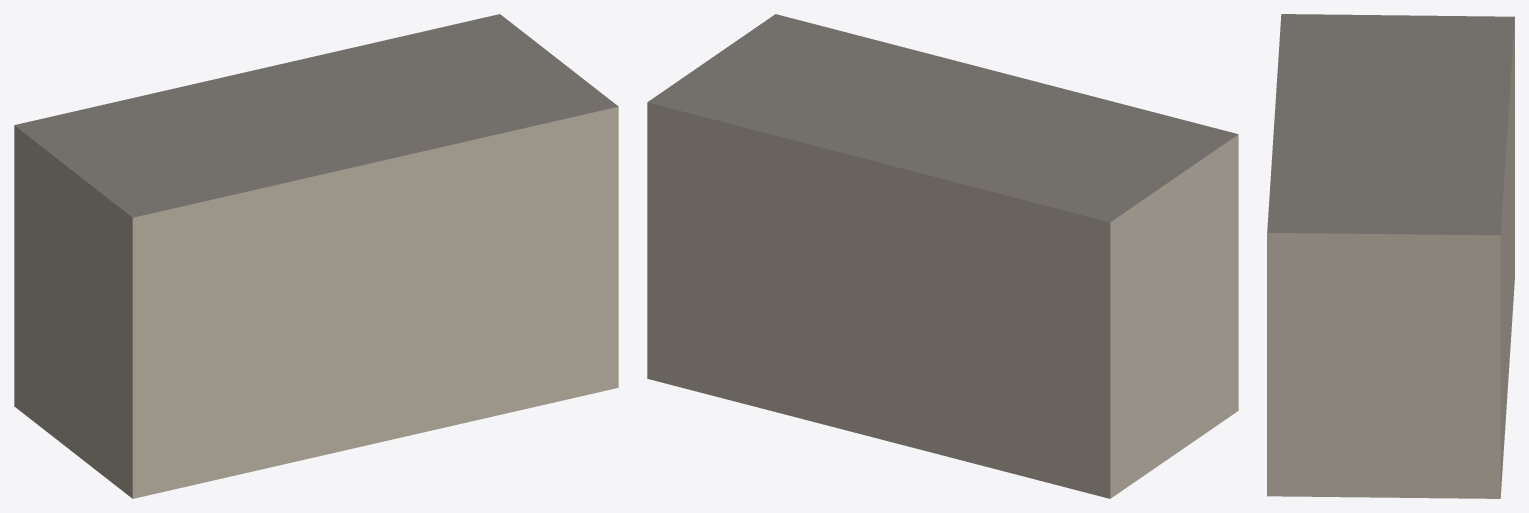
3 views of the same model, side by side, from view 1: azimuth 30°, elevation 25°; view 2: azimuth 150°, elevation 25°; view 3: azimuth 270°, elevation 25° (orthographic). The views are drawn at different scales.
Parts seen in each view (by area): view 1: HP-w1435272424; view 2: HP-w1435272424; view 3: HP-w1435272424.
Boxes of the visible parts, bbox=[...] form: HP-w1435272424: bbox=[14, 14, 618, 498]; HP-w1435272424: bbox=[647, 14, 1238, 498]; HP-w1435272424: bbox=[1267, 14, 1514, 498].
Size of the model in its own units: 32.44 by 18 by 15.33.
